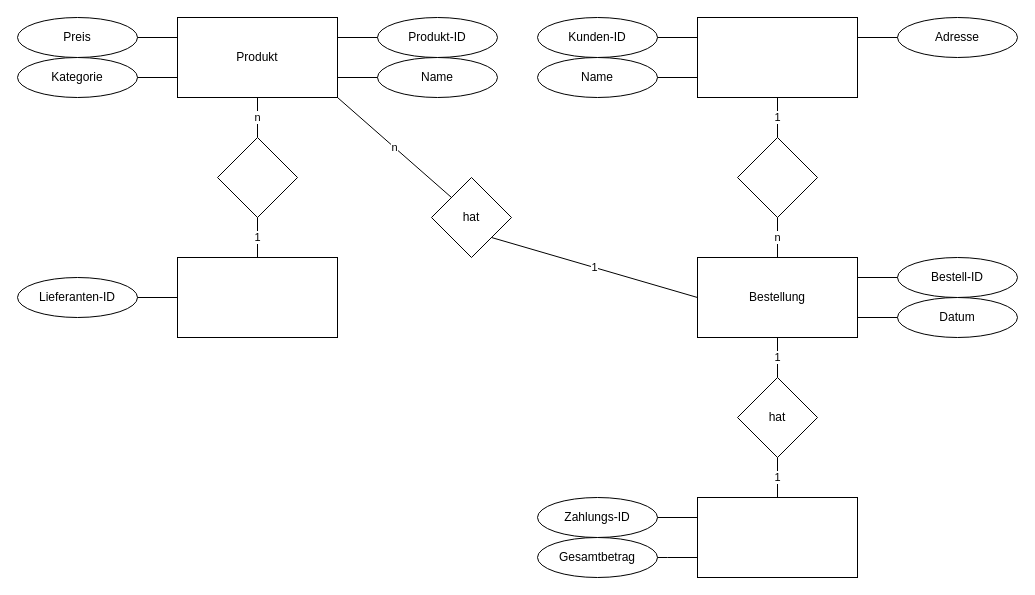
The diagram is 1035 pixels wide and 595 high, and some of its shapes have lost their labels. Here are the shapes that lost their labels. From the top down, the box of each, then its label:
(696, 16, 858, 98): Kunde
(216, 136, 298, 218): liefern
(736, 136, 818, 218): bestellt
(176, 256, 338, 338): Lieferant
(696, 496, 858, 578): Zahlung
